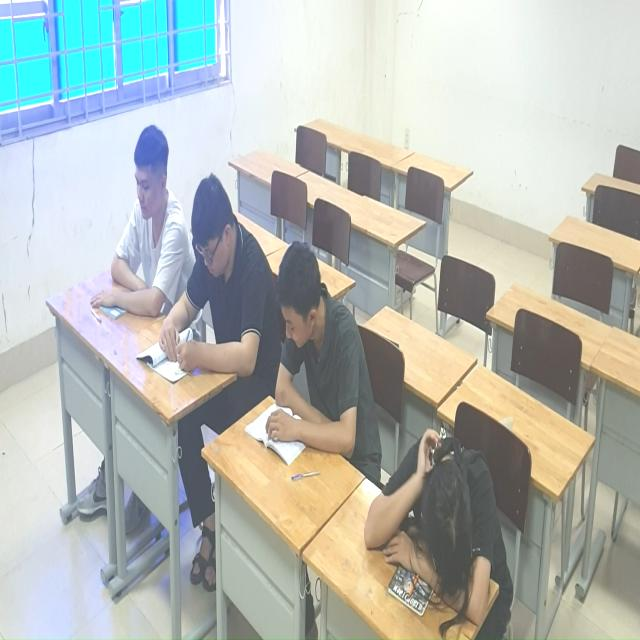read: (245, 242, 383, 464), (158, 178, 270, 425), (89, 123, 184, 330)
sleep: (363, 427, 521, 632)
